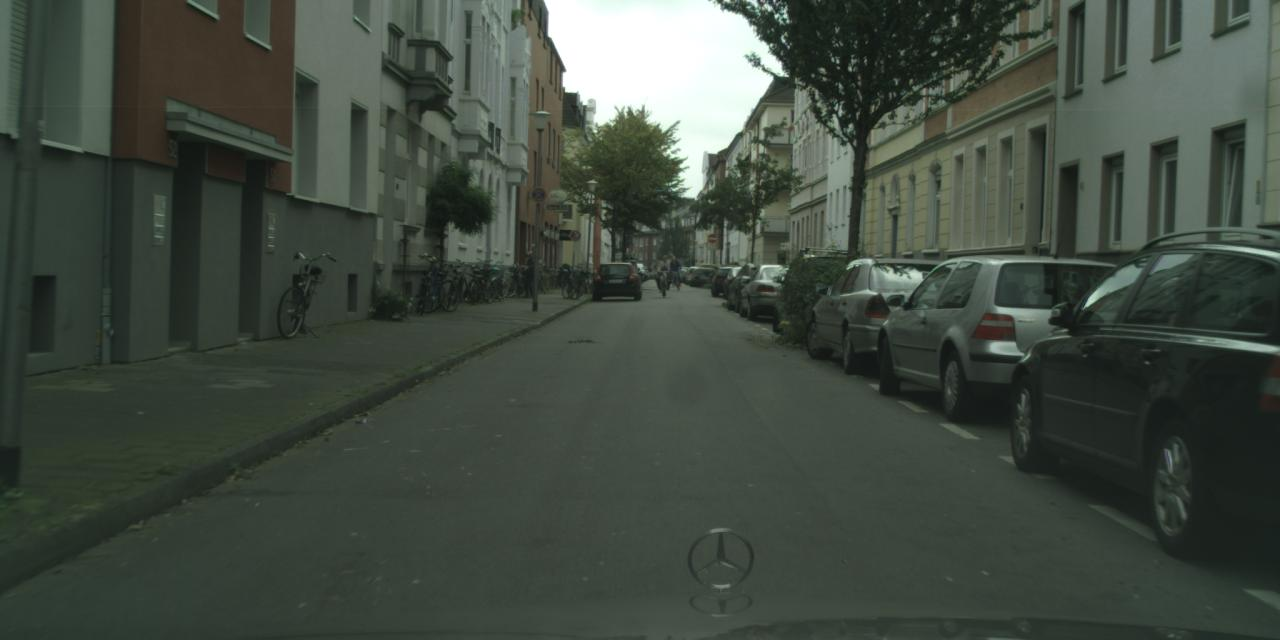ped: (518, 251, 538, 296), (658, 254, 672, 290), (670, 255, 680, 283)
